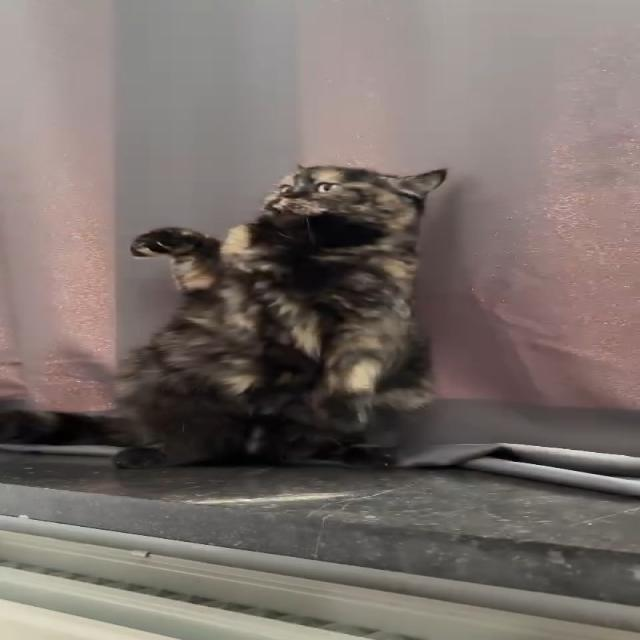authorized: (1, 162, 448, 470)
